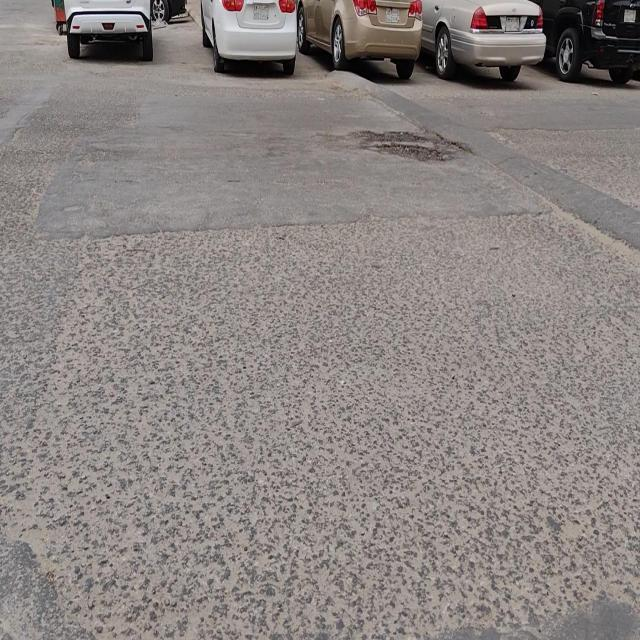Potholes: (354, 129, 446, 165)
